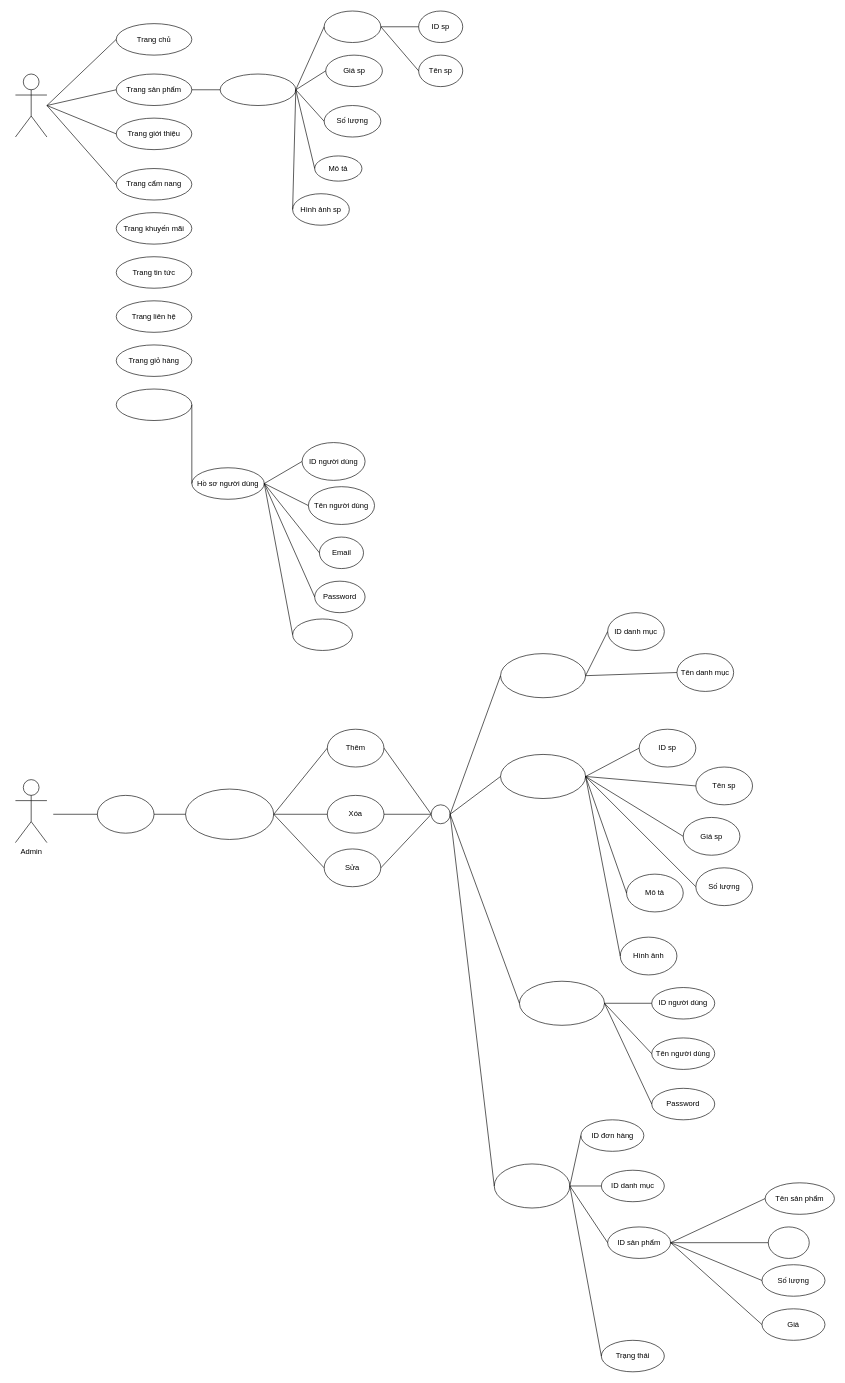
Some shapes in this 845 by 1383 pixel diagram are drawn without their labels. Each missing label, with the box of its shape:
Hình: (768, 1226, 809, 1258)
Người dùng: (15, 73, 47, 137)
Quản lý danh mục: (500, 653, 586, 698)
Quản lý sản phẩm: (500, 754, 586, 799)
Quản lý tài khoản: (519, 981, 604, 1025)
Quản lý đơn hàng: (494, 1163, 570, 1208)
Thông tin sp: (324, 10, 381, 43)
Trang ctsp: (220, 73, 296, 106)
Trang quản lý admin: (185, 788, 274, 839)
Trang đăng nhập/ký: (116, 388, 192, 421)
Đăng nhập: (97, 795, 154, 833)
Ảnh đại diện: (292, 618, 352, 650)
